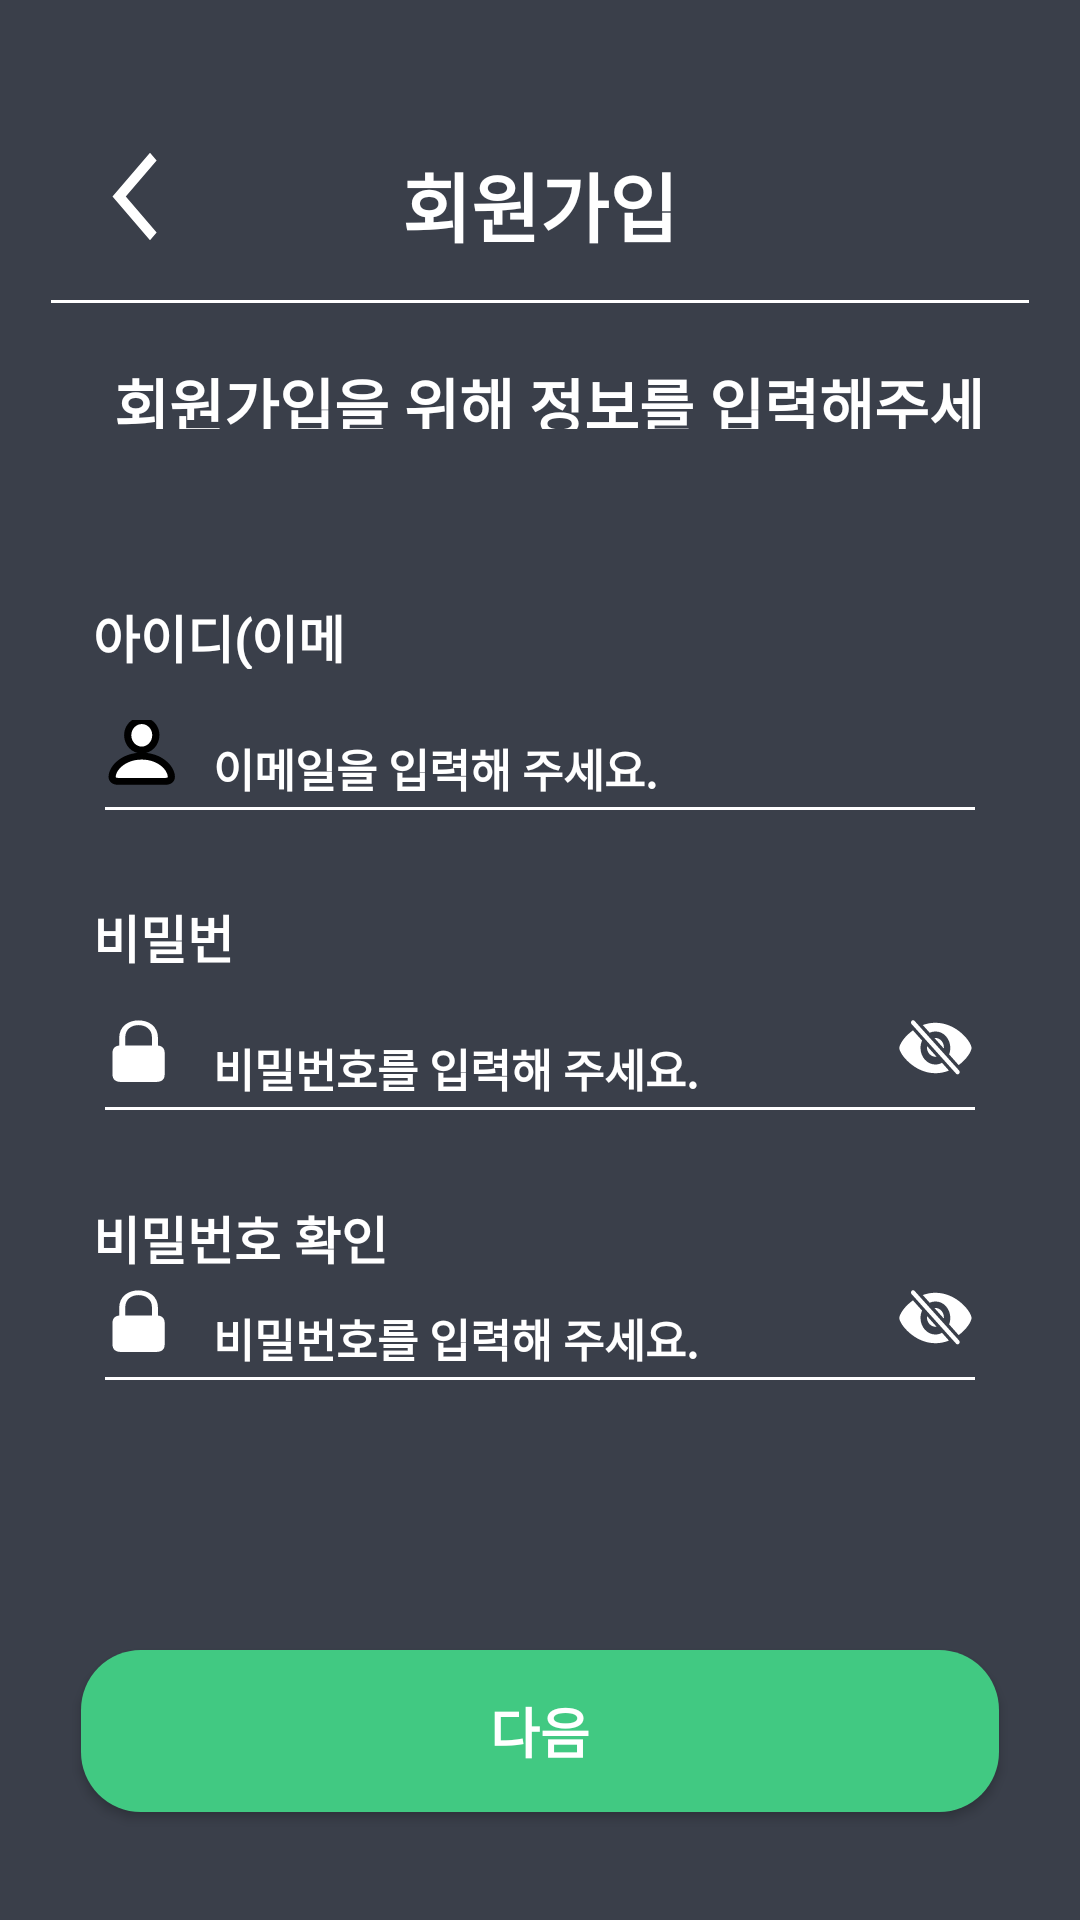

Screen size 1080w x 1920h. Icon name, then its center in pixels as (x,y):
arrow back: (134,196)
offeye: (935,1047), (935,1317)
profile: (141,752)
